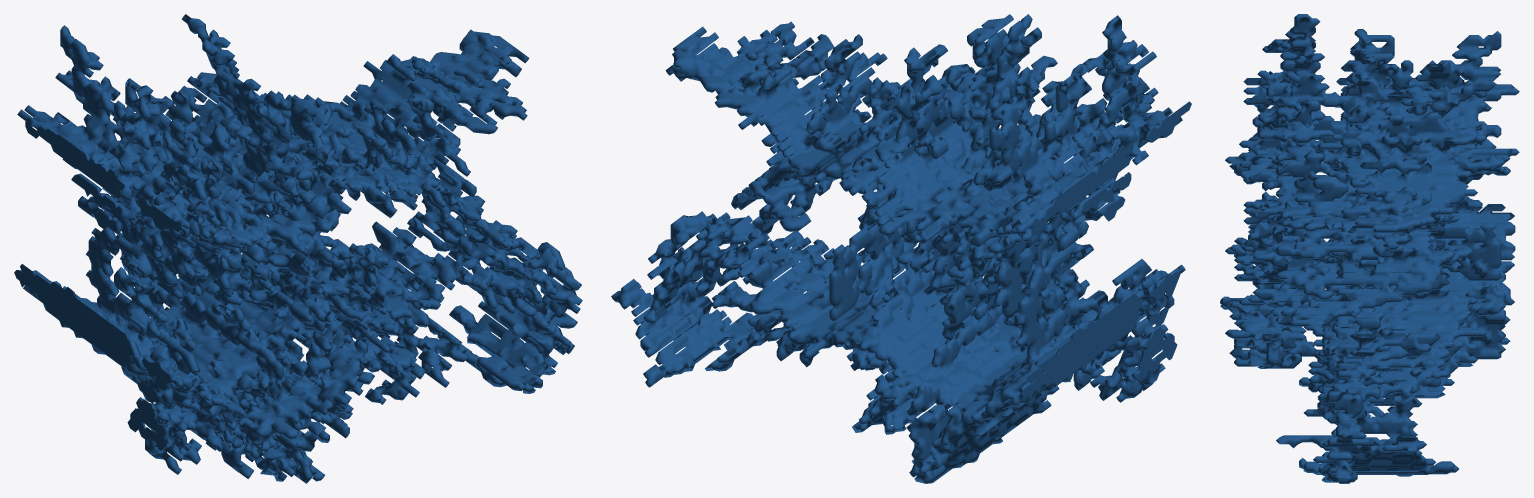
File: 3DPX-004418.glb
3 views of the same model, side by side, from view 1: azimuth 30°, elevation 25°; view 2: azimuth 150°, elevation 25°; view 3: azimuth 270°, elevation 25° (orthographic). The views are drawn at different scales.
Visible parts, largest first — view 1: surface; view 2: surface; view 3: surface.
Part boxes in pixels (x1,y1,x2,y2): surface: (14,14,582,483); surface: (611,14,1191,483); surface: (1220,14,1519,483).
Bounding box in the file's own units: 379 × 299 × 259.
